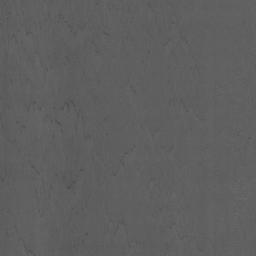Silk spot: (60, 96, 84, 120), (120, 144, 136, 166), (66, 172, 79, 194), (114, 219, 127, 235), (64, 21, 77, 36), (168, 98, 186, 108), (51, 118, 63, 133), (8, 33, 23, 44), (24, 100, 36, 112), (24, 244, 36, 256)
